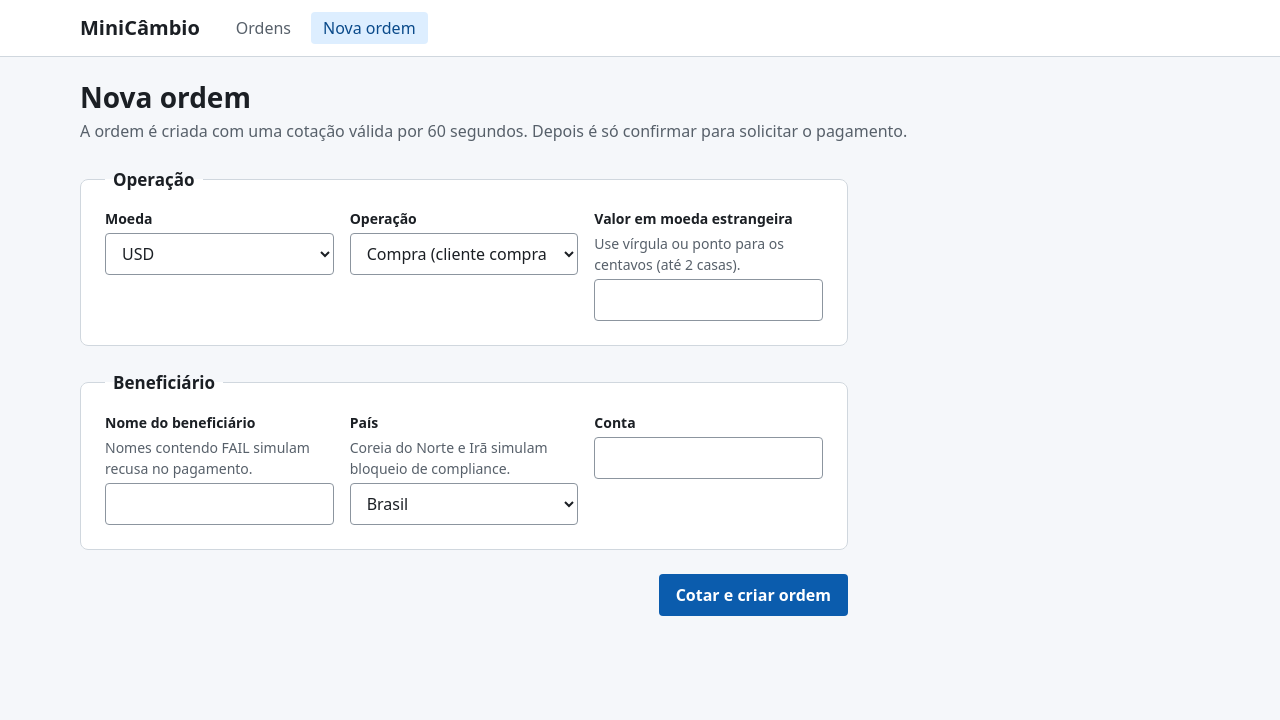
Test: CreateOrderPage › mostra "Cotando..." e desabilita o envio enquanto a requisição está pendente
The width and height of the screenshot is (1280, 720).
Expected: the heading "Nova ordem" is shown, [80, 78, 251, 116]
Select "EUR" in the dropdown labelled "Moeda": (219, 254) [105, 233, 334, 275]
Select "Venda (cliente vende a moeda estrangeira)" in the dropdown labelled "Operação": (464, 254) [350, 233, 578, 275]
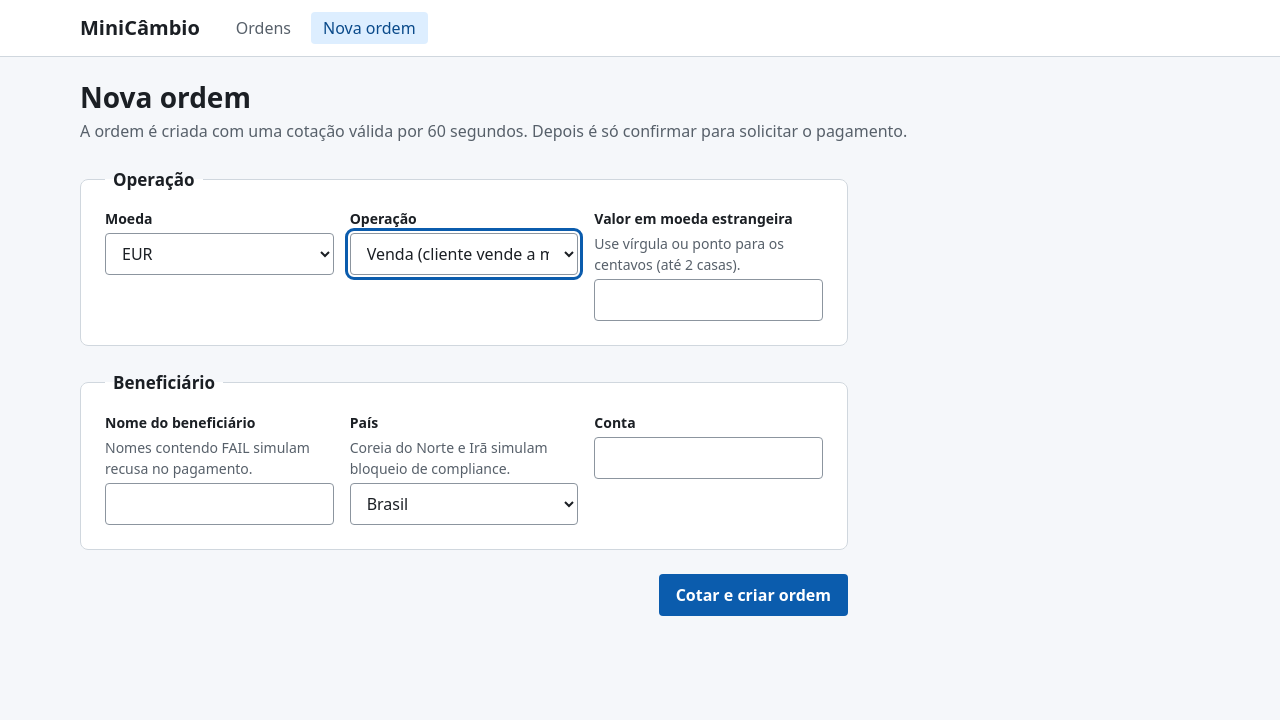
In the field labelled "Valor em moeda estrangeira": (709, 300) [594, 279, 823, 321], type "250,50"
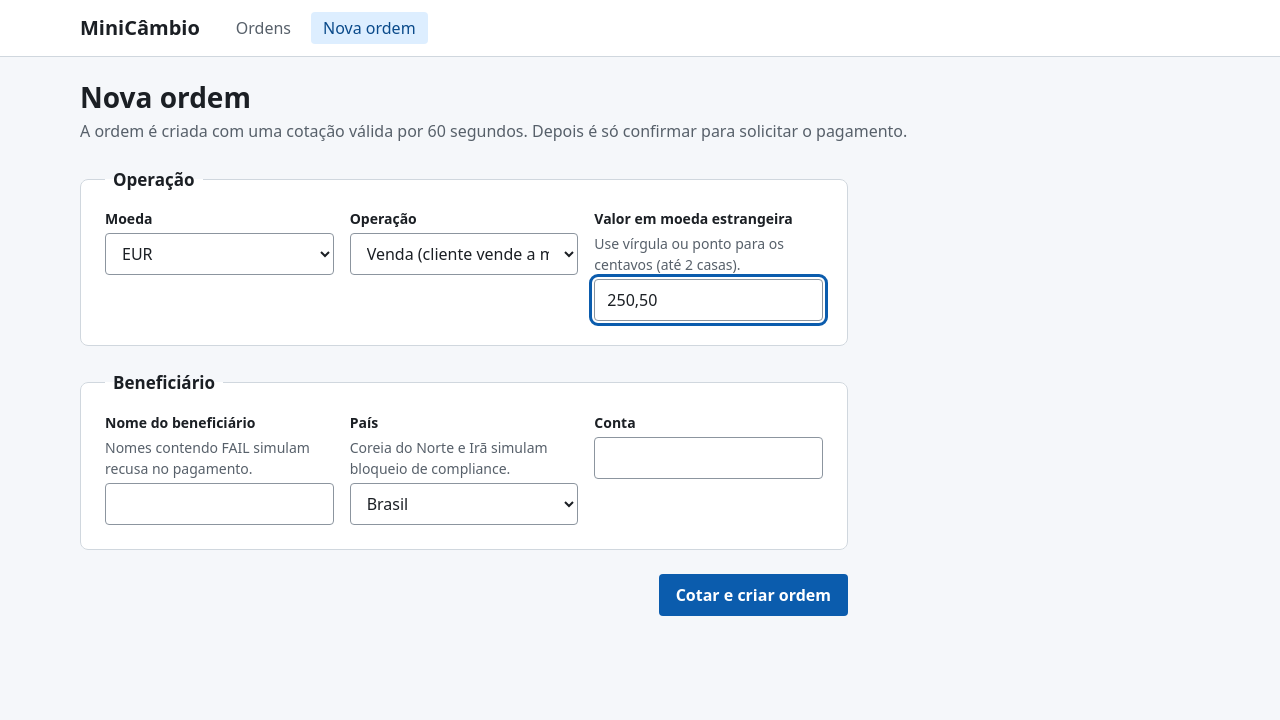
In the field labelled "Nome do beneficiário": (219, 504) [105, 483, 334, 525], type "Maria Silva"
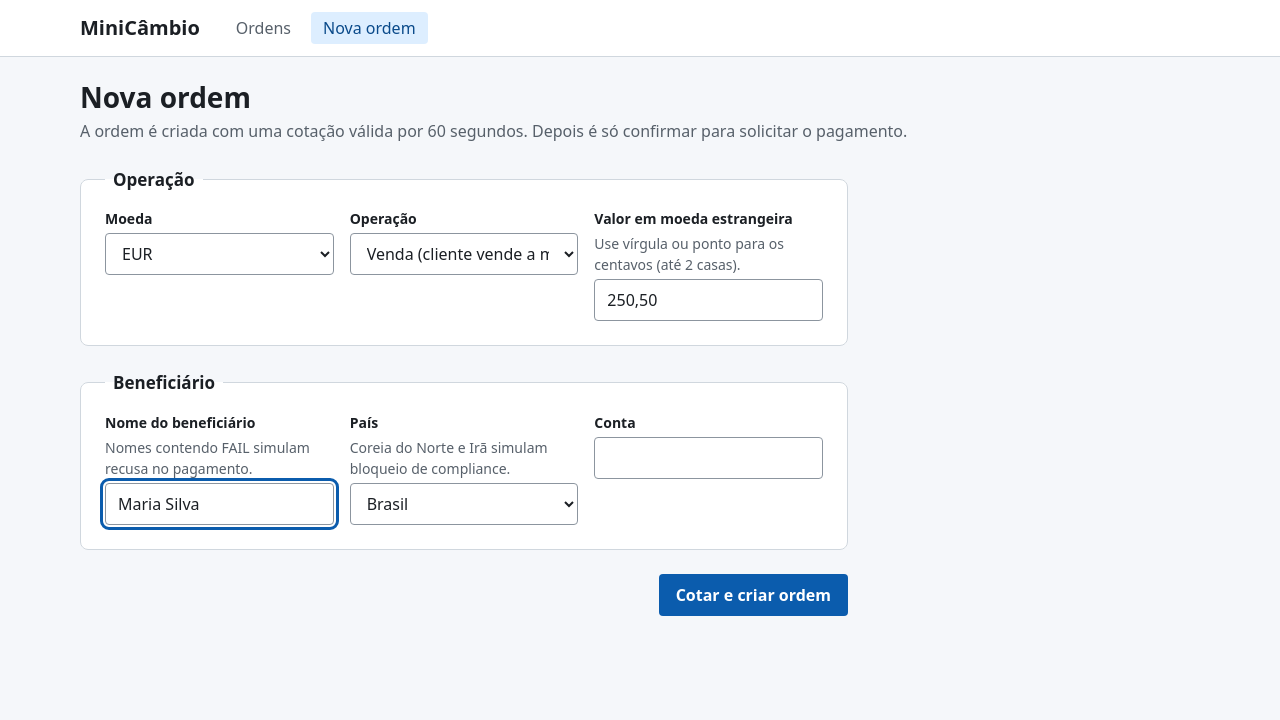
Select "Portugal" in the dropdown labelled "País": (464, 504) [350, 483, 578, 525]
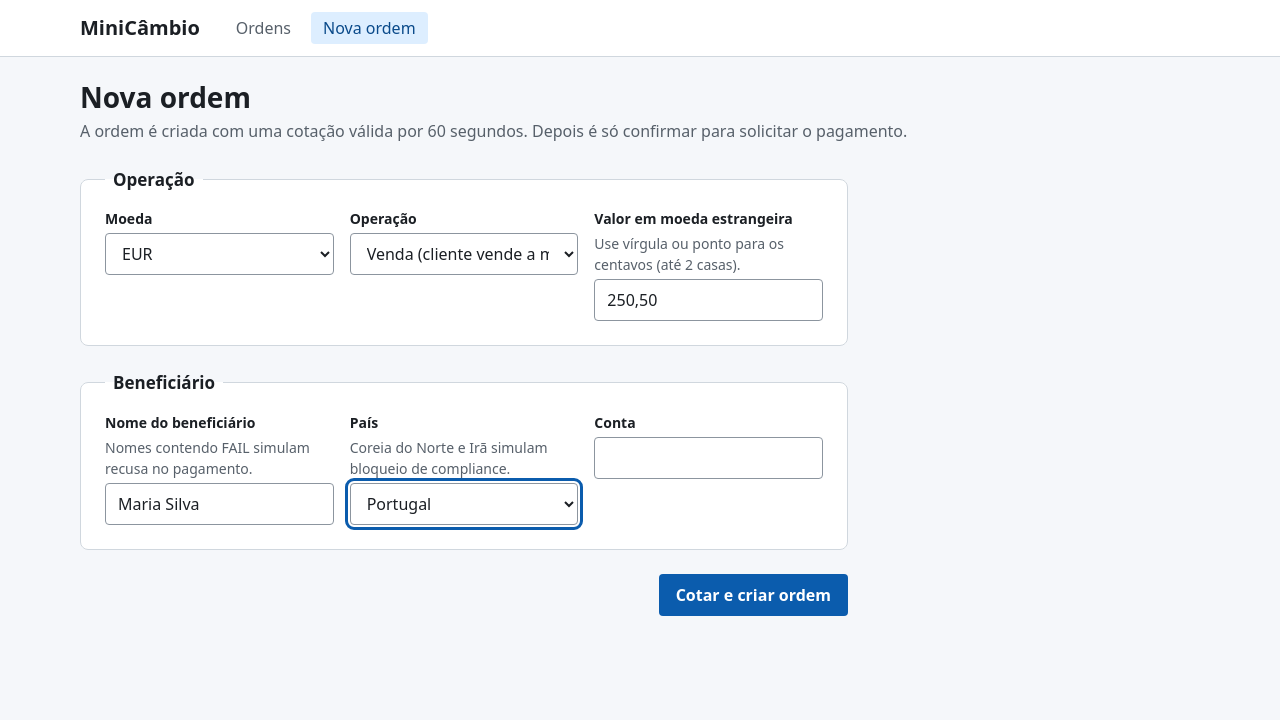
In the field labelled "Conta": (709, 458) [594, 437, 823, 479], type "PT50000201231234567890154"
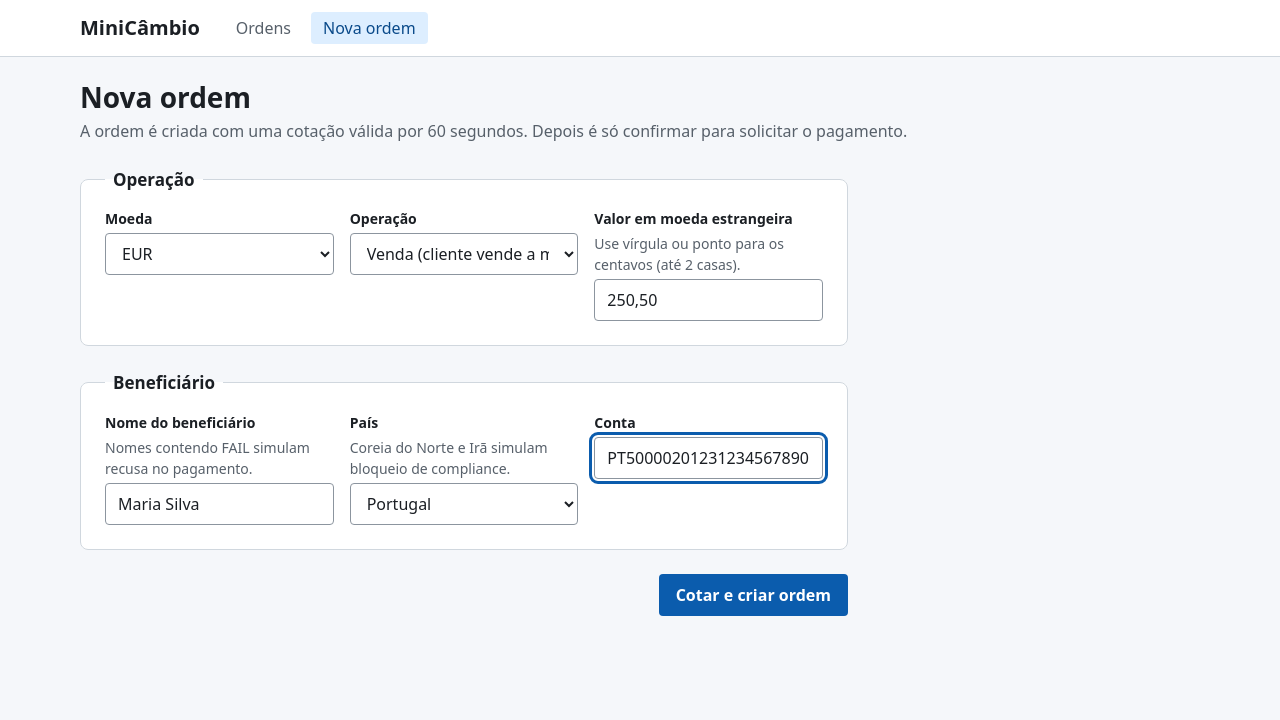
Click the button "Cotar e criar ordem": click(753, 595) [659, 574, 848, 616]
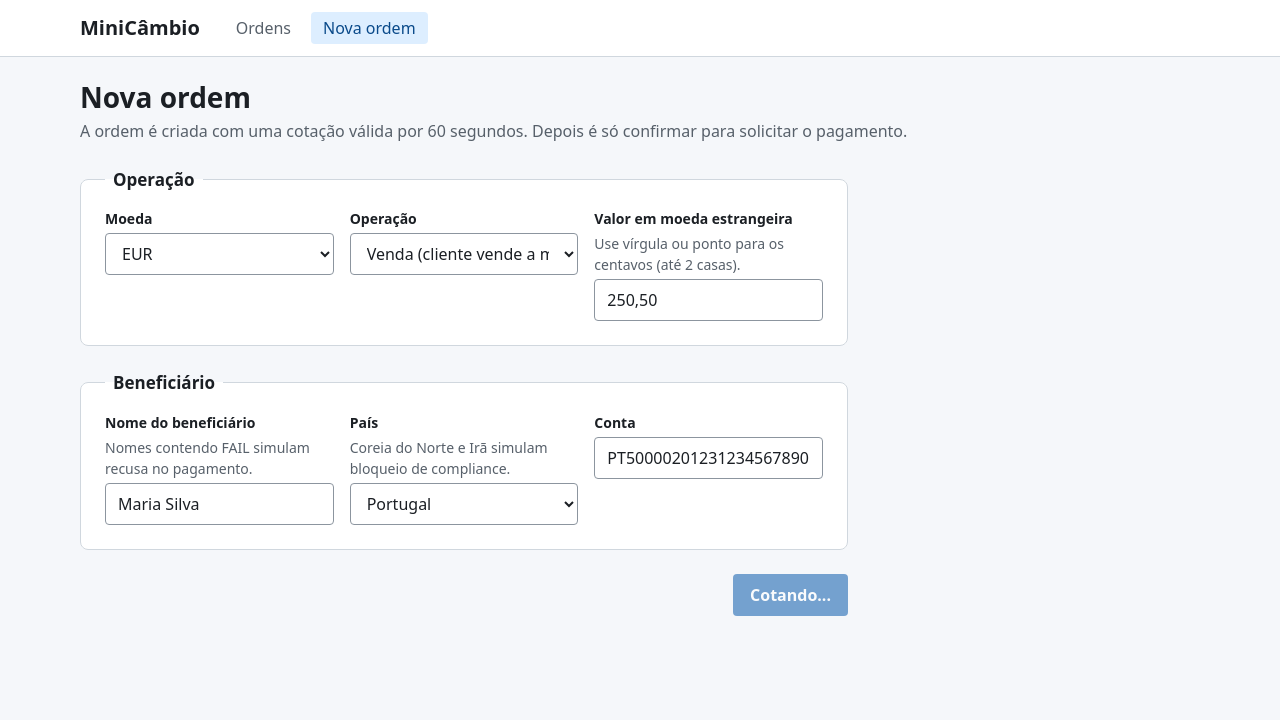
Expected: the button "Cotando..." is disabled, [733, 574, 848, 616]
